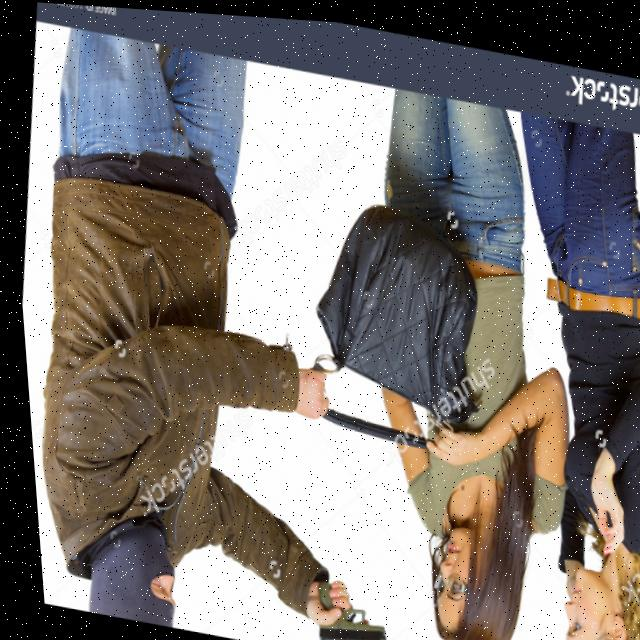pistol: (300, 574, 384, 640)
